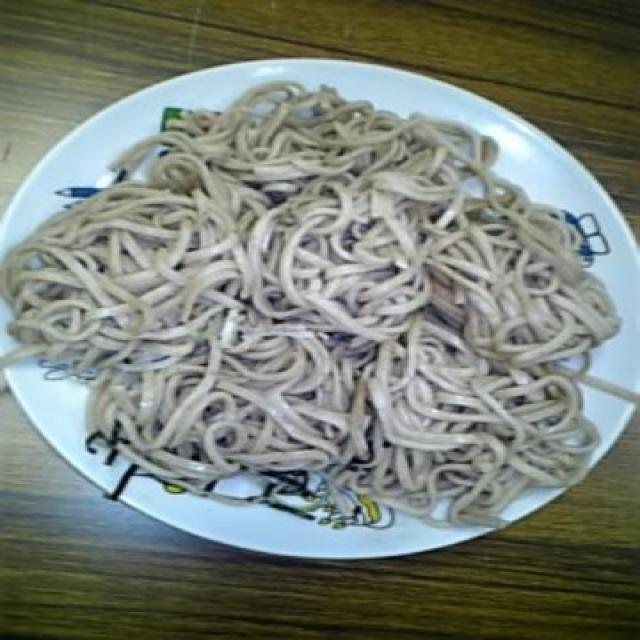面条主食: (2, 92, 615, 528)
